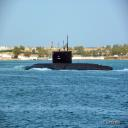submarine: (27, 52, 117, 71)
